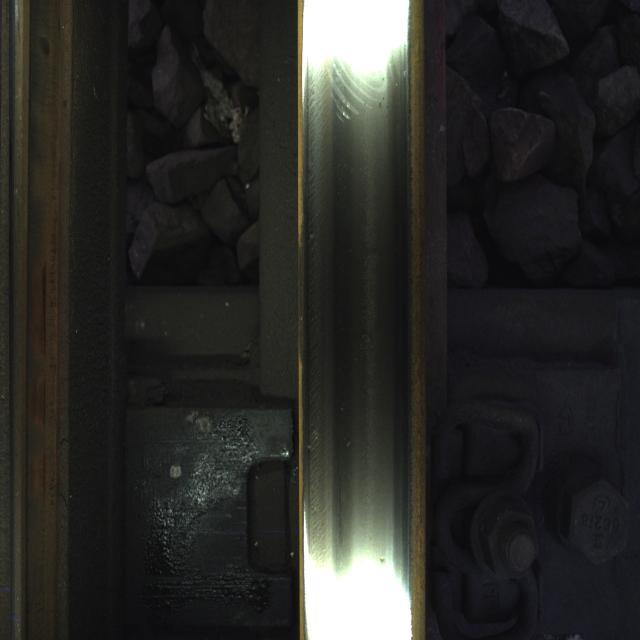break: (304, 41, 410, 575)
